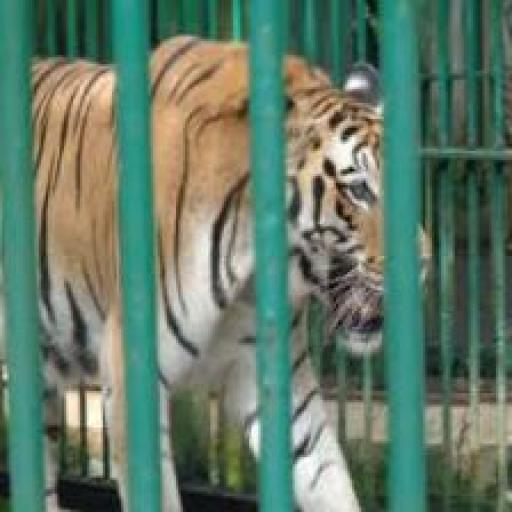Tiger: (0, 25, 443, 512)
